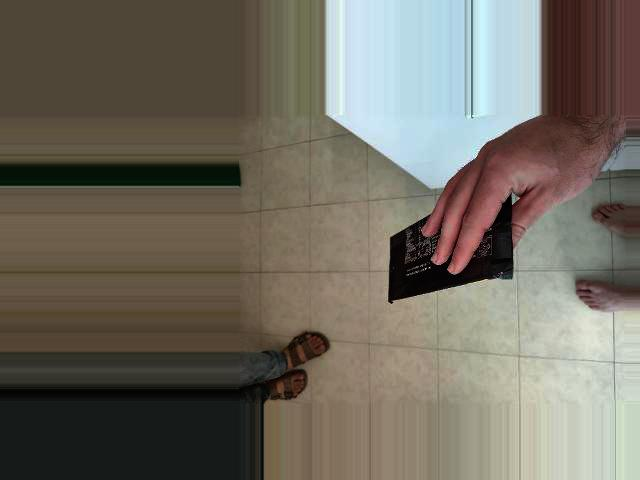chocolate: (336, 261, 461, 410)
